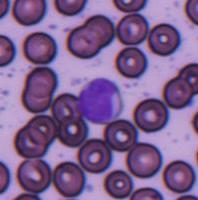M: (76, 76, 122, 123)
